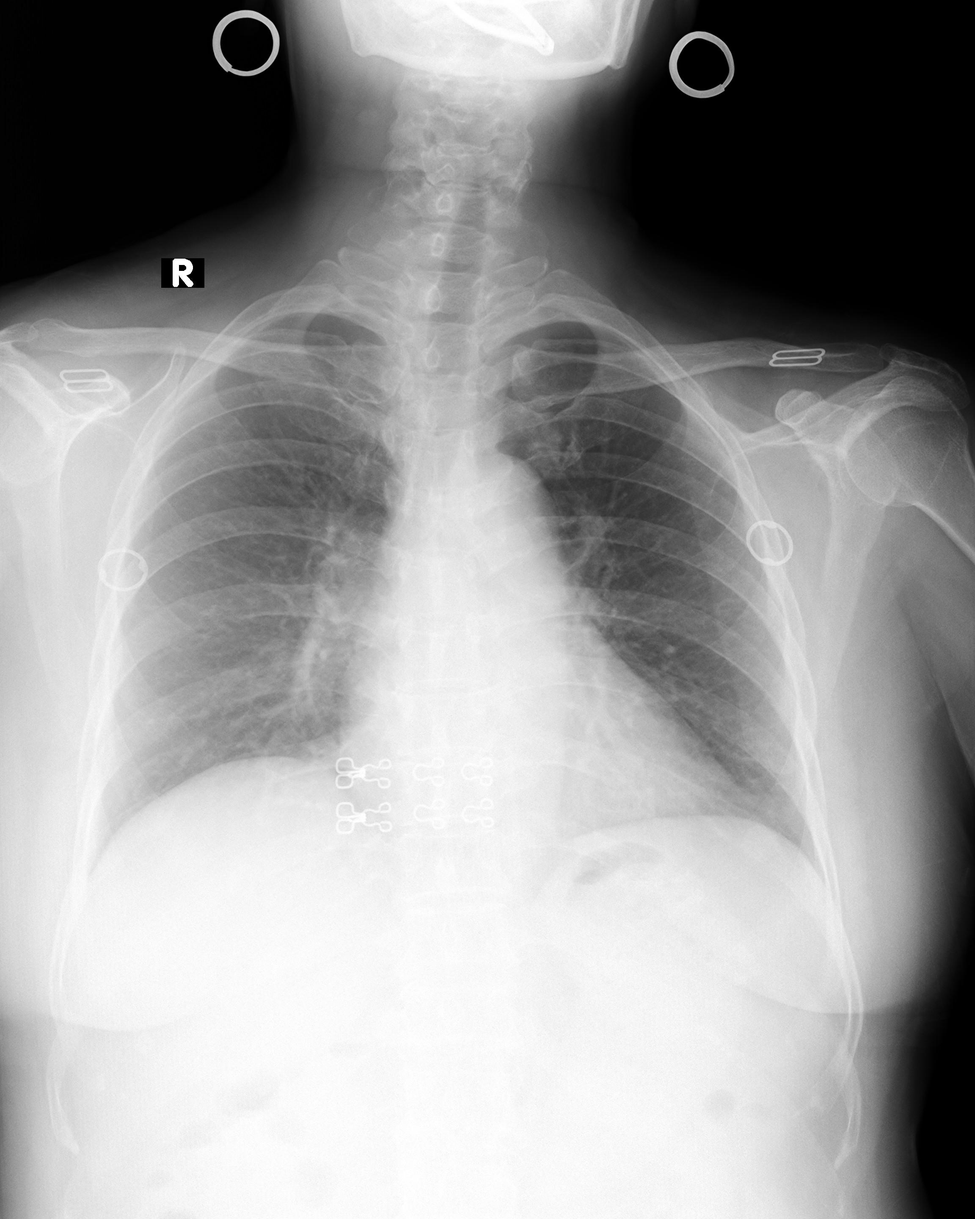Aortic enlargement: (467, 453, 565, 572)
Cardiomegaly: (332, 693, 742, 808)
